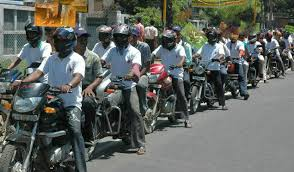helmet: (52, 27, 77, 52), (113, 23, 131, 46), (160, 29, 177, 49)
